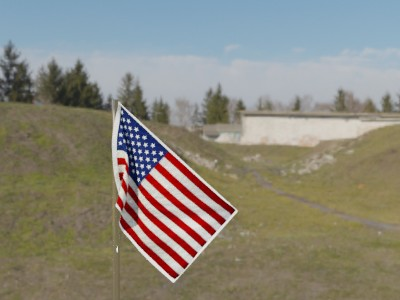America flag: (114, 101, 238, 285)
